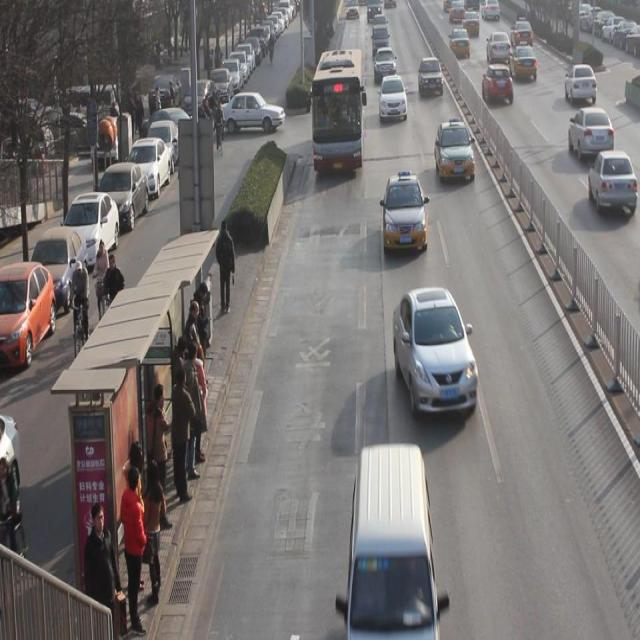car: (393, 288, 478, 418), (383, 172, 428, 254), (589, 150, 640, 216), (568, 106, 614, 161), (435, 121, 475, 182), (379, 75, 408, 123), (565, 63, 597, 106), (482, 62, 513, 106), (511, 42, 538, 82), (419, 56, 444, 97), (374, 47, 396, 83), (486, 32, 511, 63), (511, 17, 534, 46), (450, 26, 470, 58)
truck: (348, 444, 438, 640), (372, 24, 389, 56)
van: (309, 50, 362, 173)
